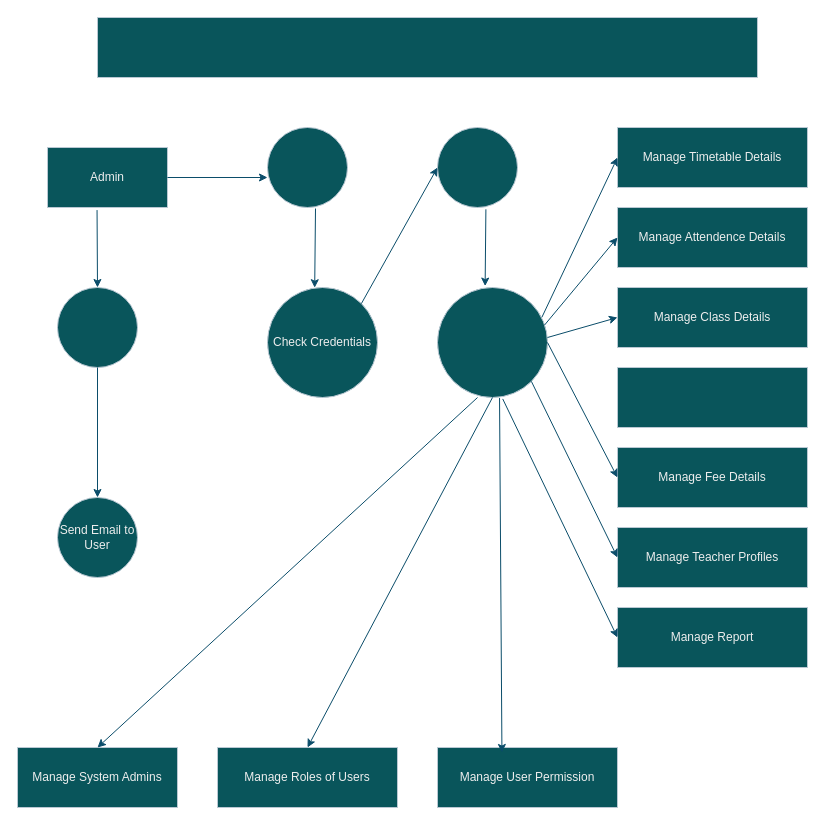
This 825x825 diagram has some shape labels left out. Each missing label, with the centre of its shape:
"Check Roles of Access" goes at (x=477, y=167).
"Forget Password" goes at (x=97, y=327).
"Login to System" goes at (x=307, y=167).
"Manage Modules" goes at (x=492, y=342).
"Manage Student Details" goes at (x=712, y=397).
"Student Information System" goes at (x=427, y=47).
